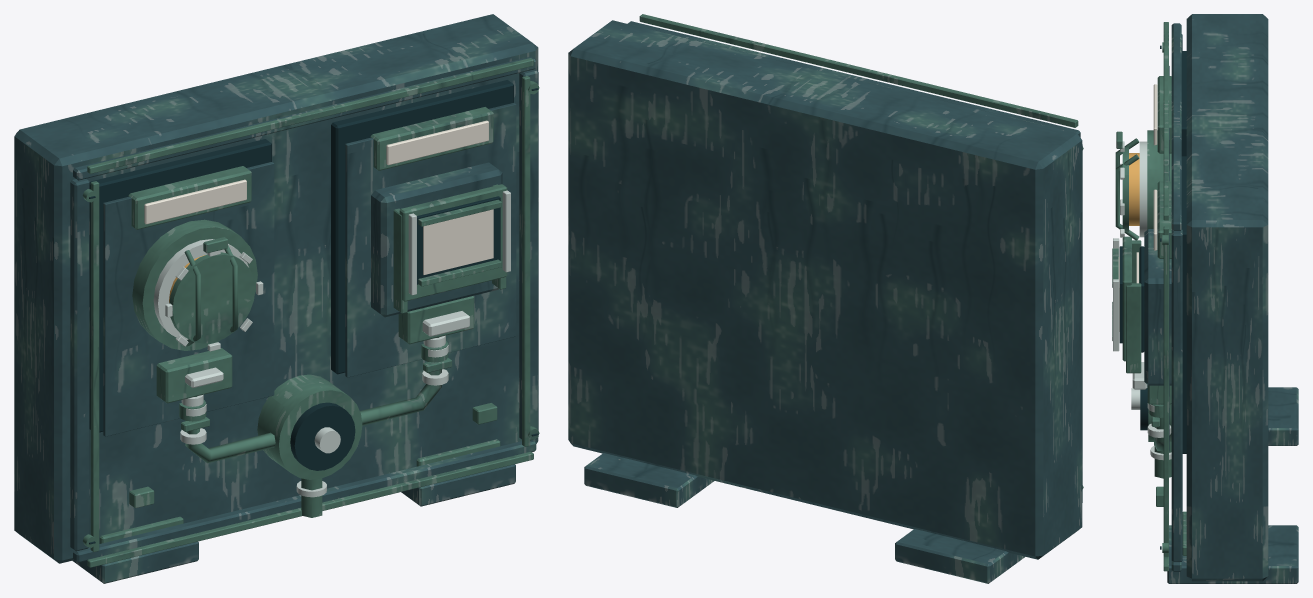
Rendered from SM_C1_Gate_System_Panel.glb.
3 renders of one model, left to right at view 1: azimuth 30°, elevation 25°; view 2: azimuth 150°, elevation 25°; view 3: azimuth 270°, elevation 25°, orthographic. The views are drawn at different scales.
Visible parts, largest first — view 1: SM_C1_Gate_System_Panel_Casting, SM_C1_Gate_System_Panel_Patina, SM_C1_Gate_System_Panel_Recess, SM_C1_Gate_System_Panel_Blank_Paper, SM_C1_Gate_System_Panel_Salt_Porcelain; view 2: SM_C1_Gate_System_Panel_Casting, SM_C1_Gate_System_Panel_Patina; view 3: SM_C1_Gate_System_Panel_Casting, SM_C1_Gate_System_Panel_Patina, SM_C1_Gate_System_Panel_Recess, SM_C1_Gate_System_Panel_Salt_Porcelain, SM_C1_Gate_System_Panel_Blank_Paper, SM_C1_Gate_System_Panel_Lamp_Lens.
Boxes of the visible parts, left/top/right/bottom form: SM_C1_Gate_System_Panel_Casting: left=14, top=14, right=538, bottom=583; SM_C1_Gate_System_Panel_Patina: left=82, top=58, right=539, bottom=567; SM_C1_Gate_System_Panel_Recess: left=89, top=80, right=538, bottom=544; SM_C1_Gate_System_Panel_Blank_Paper: left=144, top=120, right=493, bottom=274; SM_C1_Gate_System_Panel_Salt_Porcelain: left=153, top=190, right=510, bottom=497; SM_C1_Gate_System_Panel_Casting: left=568, top=20, right=1082, bottom=583; SM_C1_Gate_System_Panel_Patina: left=639, top=14, right=1083, bottom=488; SM_C1_Gate_System_Panel_Casting: left=1144, top=14, right=1298, bottom=583; SM_C1_Gate_System_Panel_Patina: left=1112, top=22, right=1186, bottom=571; SM_C1_Gate_System_Panel_Recess: left=1119, top=45, right=1186, bottom=549; SM_C1_Gate_System_Panel_Salt_Porcelain: left=1113, top=141, right=1171, bottom=460; SM_C1_Gate_System_Panel_Blank_Paper: left=1118, top=84, right=1157, bottom=331; SM_C1_Gate_System_Panel_Lamp_Lens: left=1129, top=153, right=1139, bottom=225.
Size of the model in its own units: 1.1 by 0.92 by 0.411.
Materials: 6 (2 with a texture image).
